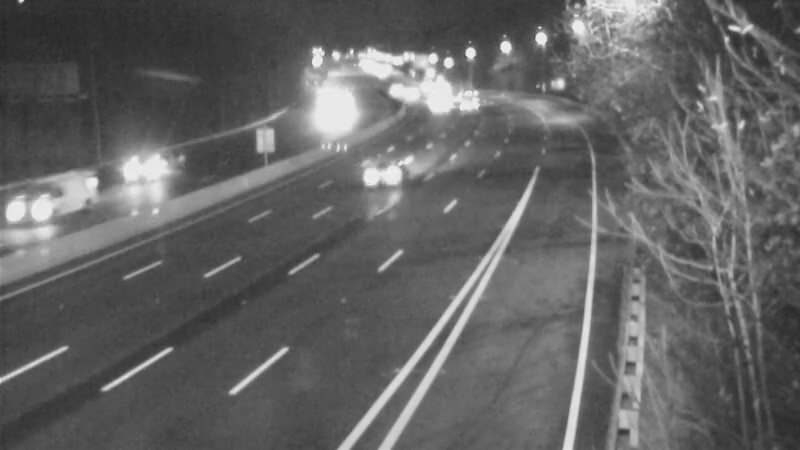vehicle: (352, 135, 432, 215), (101, 126, 181, 206), (1, 159, 74, 239), (410, 59, 460, 109), (379, 71, 429, 121), (443, 76, 493, 126), (413, 72, 463, 122)
